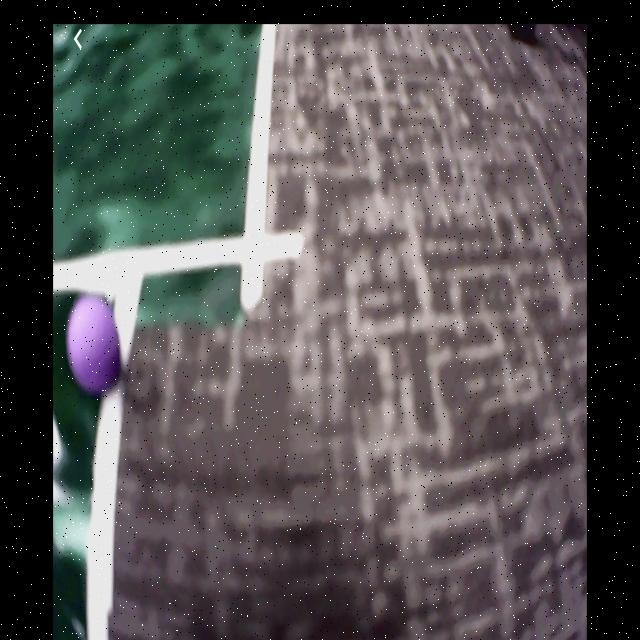ball: (69, 300, 122, 393)
